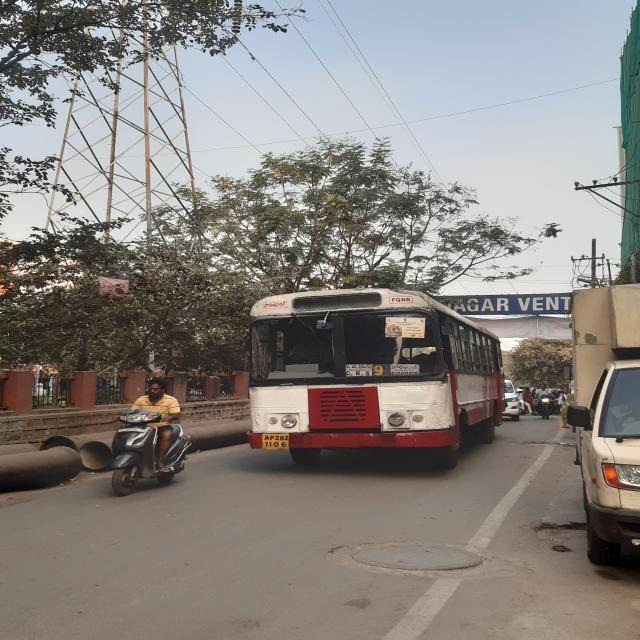Bus: (239, 283, 506, 466)
